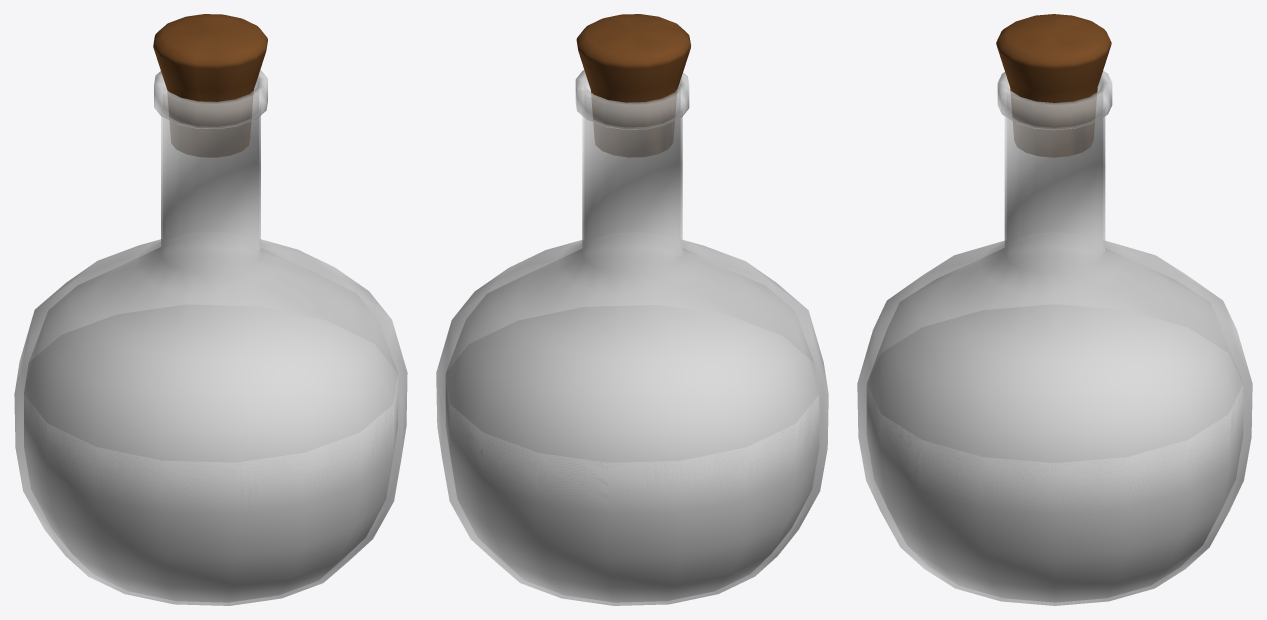
Rendered from FrascoCircular.fbx.
3 renders of one model, left to right at view 1: azimuth 30°, elevation 25°; view 2: azimuth 150°, elevation 25°; view 3: azimuth 270°, elevation 25°, orthographic.
Visible parts, largest first — view 1: TuboCaldeirao, LiquidoCaldeirao, TampaCaldeirao; view 2: TuboCaldeirao, LiquidoCaldeirao, TampaCaldeirao; view 3: TuboCaldeirao, LiquidoCaldeirao, TampaCaldeirao.
Boxes of the visible parts, bbox=[...] form: TuboCaldeirao: bbox=[14, 70, 407, 605]; LiquidoCaldeirao: bbox=[24, 304, 397, 602]; TampaCaldeirao: bbox=[153, 14, 267, 157]; TuboCaldeirao: bbox=[436, 70, 828, 605]; LiquidoCaldeirao: bbox=[445, 305, 819, 602]; TampaCaldeirao: bbox=[576, 14, 691, 157]; TuboCaldeirao: bbox=[857, 71, 1252, 605]; LiquidoCaldeirao: bbox=[866, 304, 1243, 602]; TampaCaldeirao: bbox=[996, 14, 1111, 157].
Size of the model in its own units: 70.82 by 106 by 70.82.
